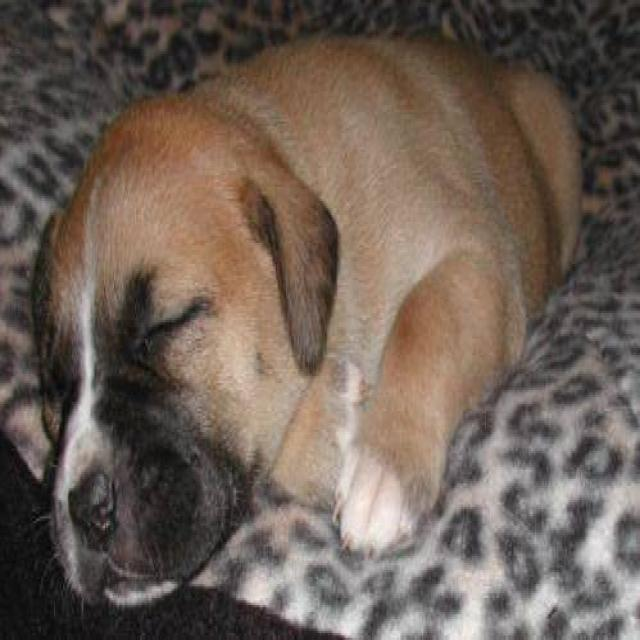dog: (28, 26, 584, 610)
